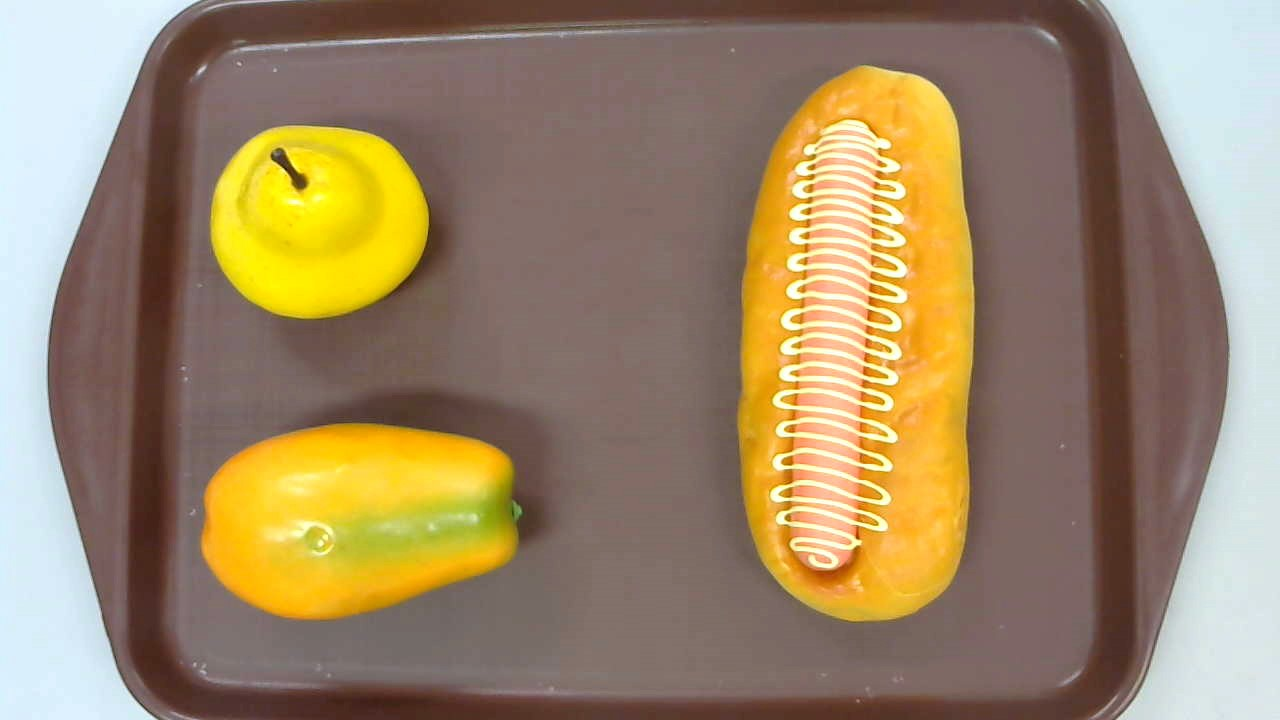hot dog: (736, 64, 973, 618)
papya: (199, 422, 524, 622)
yellow pear: (210, 124, 429, 319)
